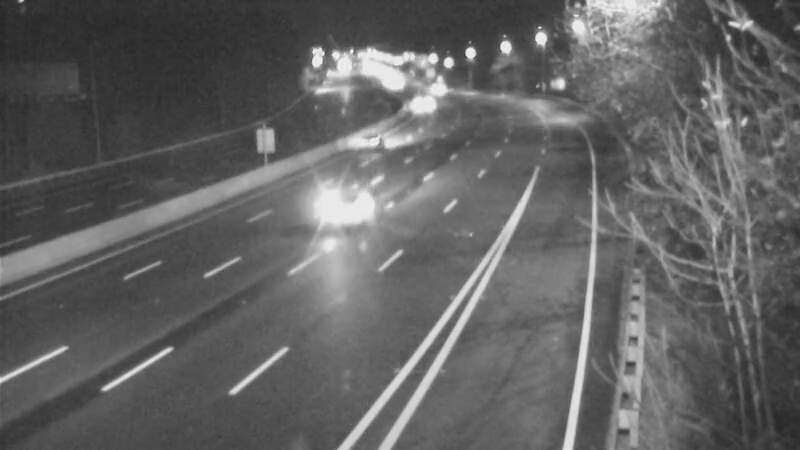vehicle: (302, 168, 382, 248), (411, 62, 461, 112), (399, 75, 449, 125), (347, 117, 397, 167)
